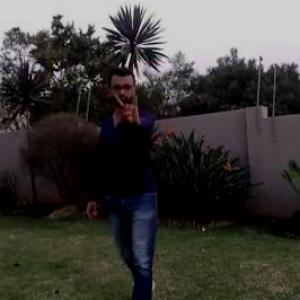takeoff-hand: (108, 87, 147, 132)
